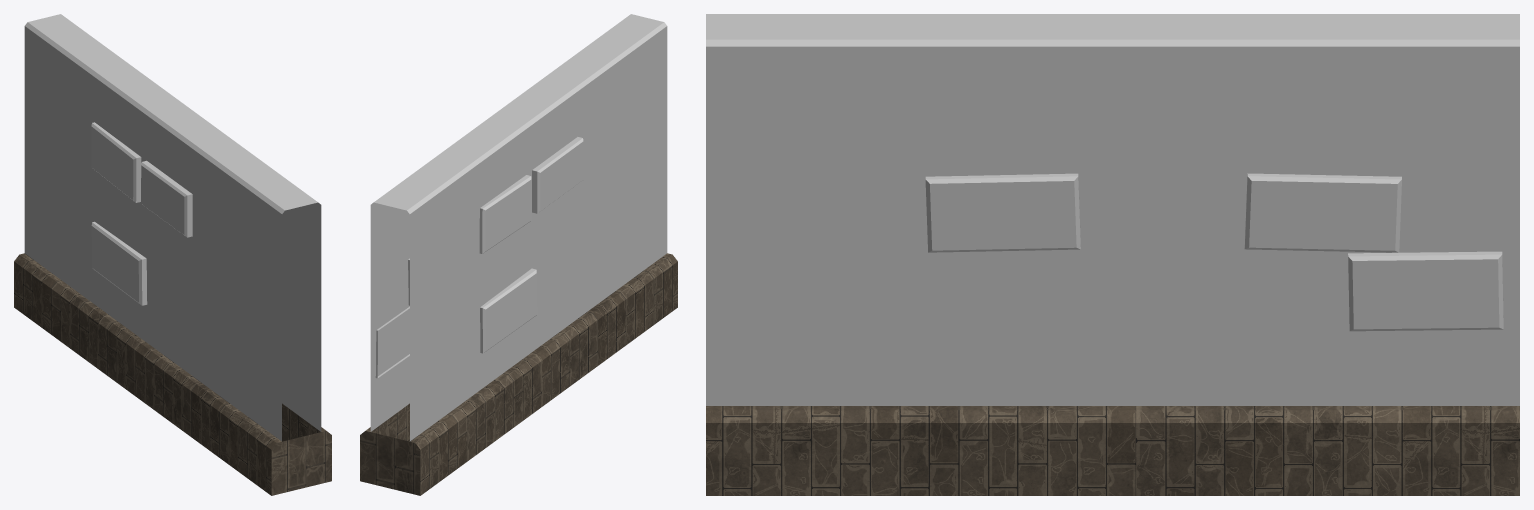
The model's file is mainwallnospike.fbx.
The picture shows the model from 3 angles, left to right: view 1: azimuth 30°, elevation 25°; view 2: azimuth 150°, elevation 25°; view 3: azimuth 270°, elevation 25°; orthographic projection. The views are drawn at different scales.
Visible parts, largest first — view 1: MainWall; view 2: MainWall; view 3: MainWall.
Boxes of the visible parts, x1=… form: MainWall: x1=14, y1=14, x2=331, y2=495; MainWall: x1=360, y1=14, x2=677, y2=495; MainWall: x1=706, y1=14, x2=1519, y2=495.
Size of the model in its own units: 0.6345 by 2.83 by 4.68.
